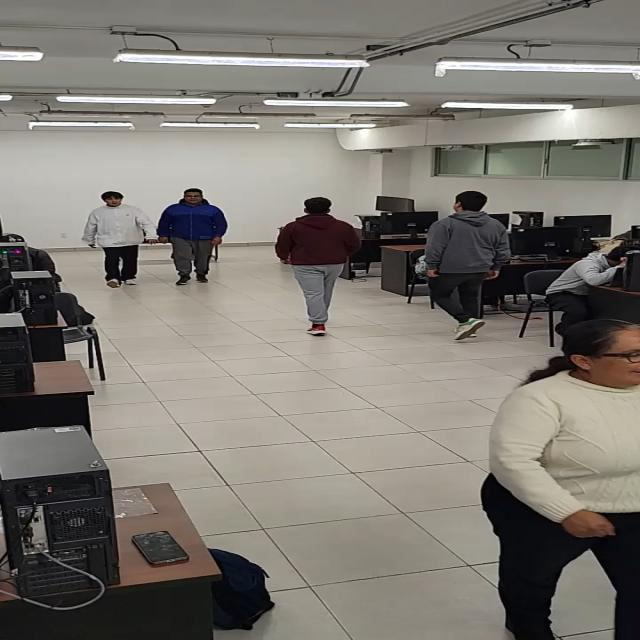Persona: (502, 315, 640, 632), (276, 197, 353, 341), (436, 191, 502, 340), (85, 190, 156, 288), (164, 188, 218, 285)
